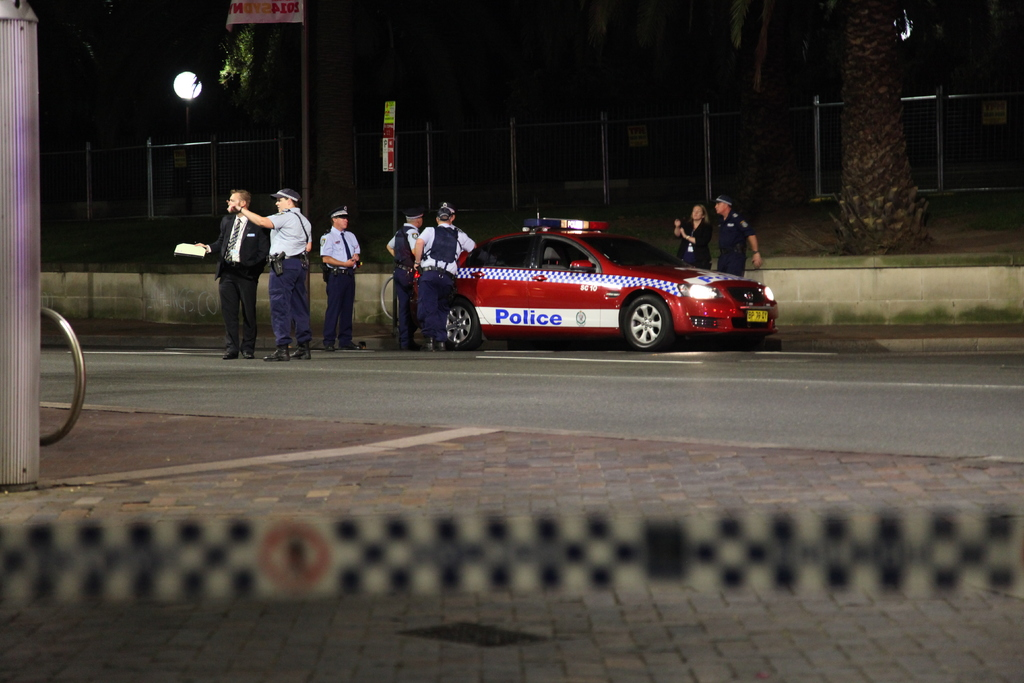Car: (391, 212, 785, 353)
